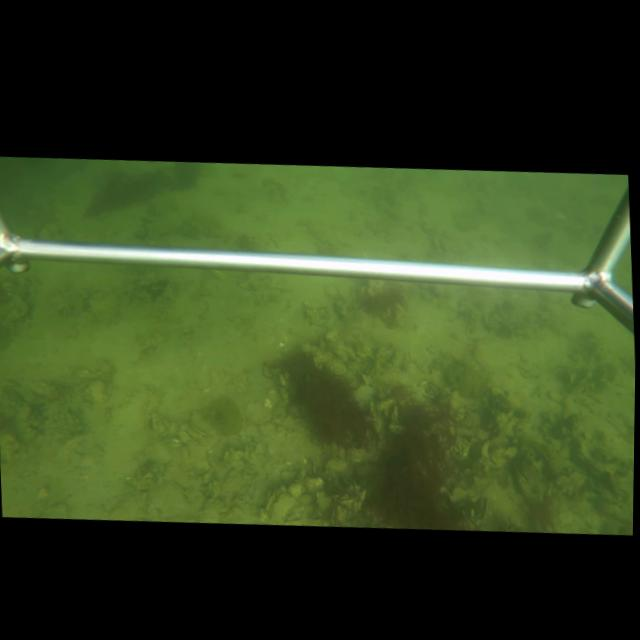Oyster-Indeterminate: (267, 492, 303, 523)
